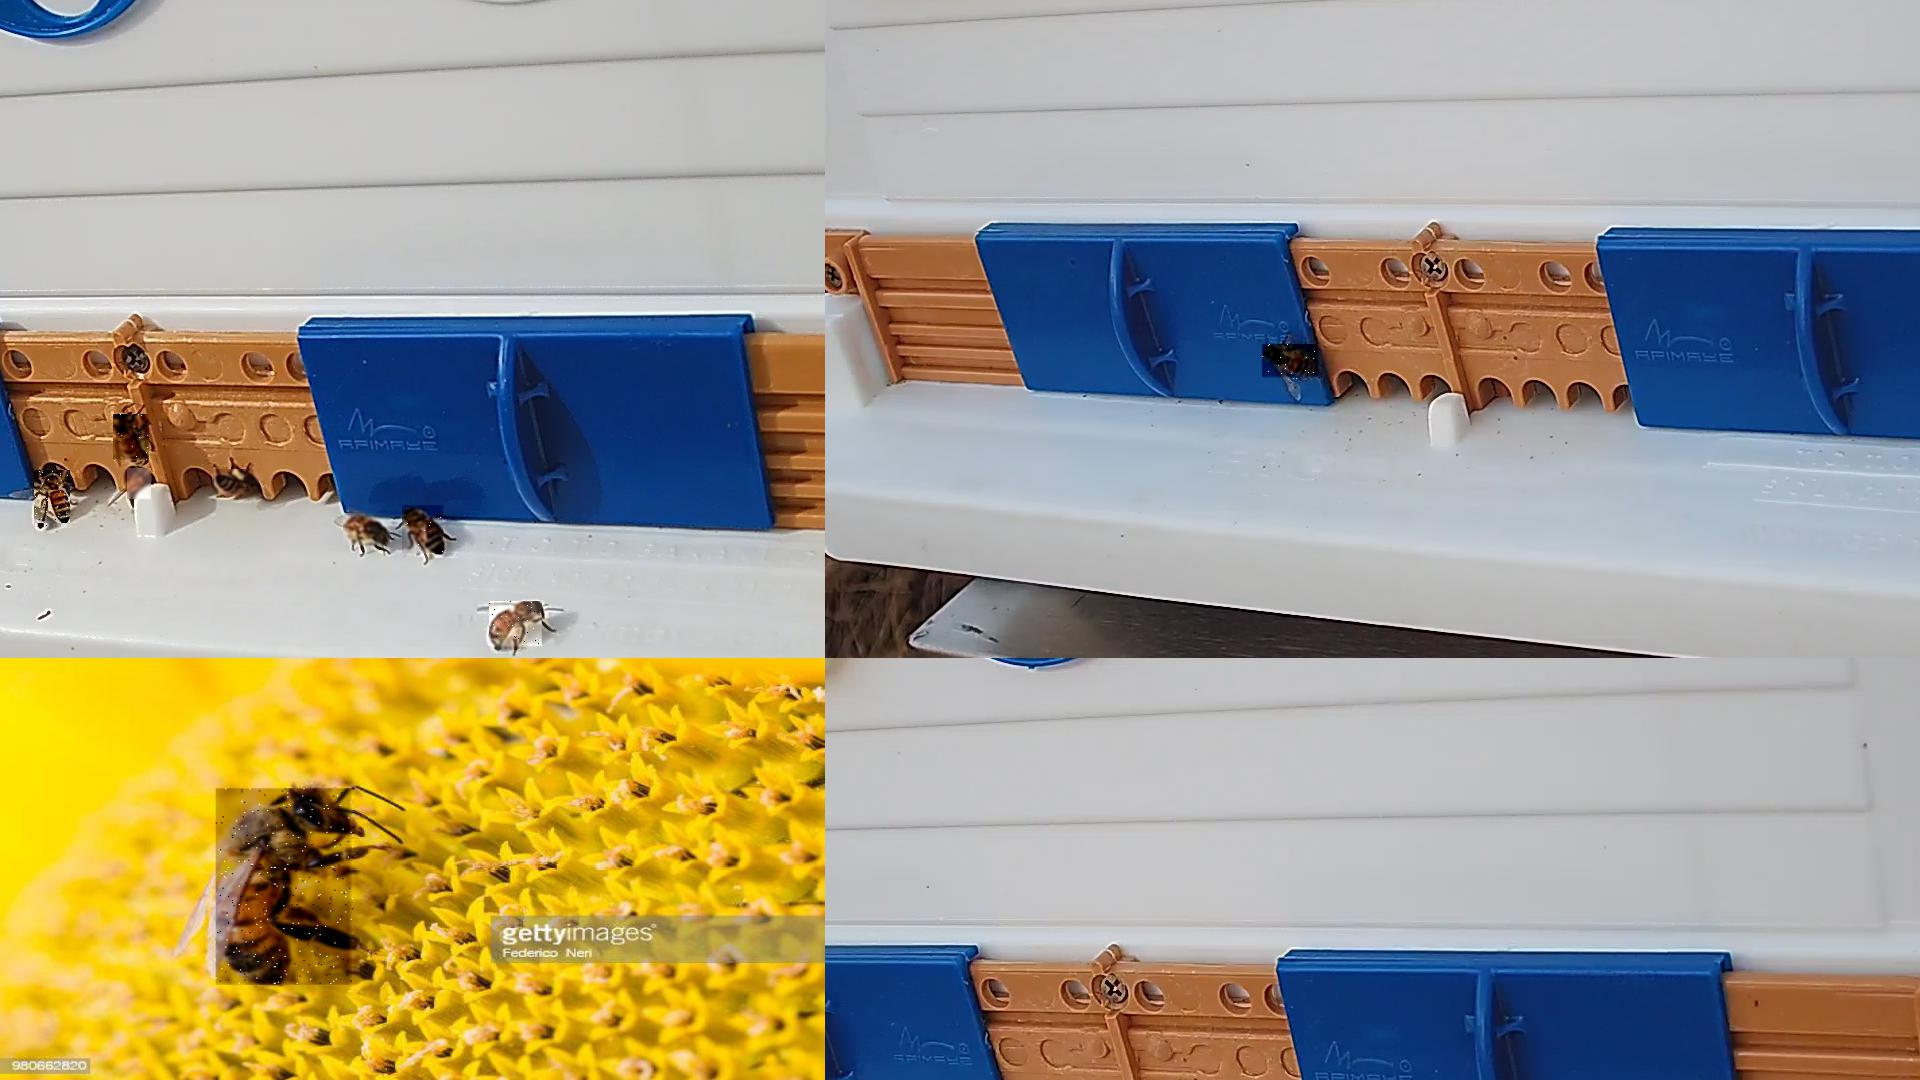bee: (218, 789, 356, 986), (1263, 344, 1321, 381), (34, 471, 71, 527), (402, 505, 444, 554), (113, 415, 150, 463), (343, 513, 392, 546), (128, 468, 153, 500)
pollenbee: (489, 601, 543, 650), (212, 469, 260, 496)
